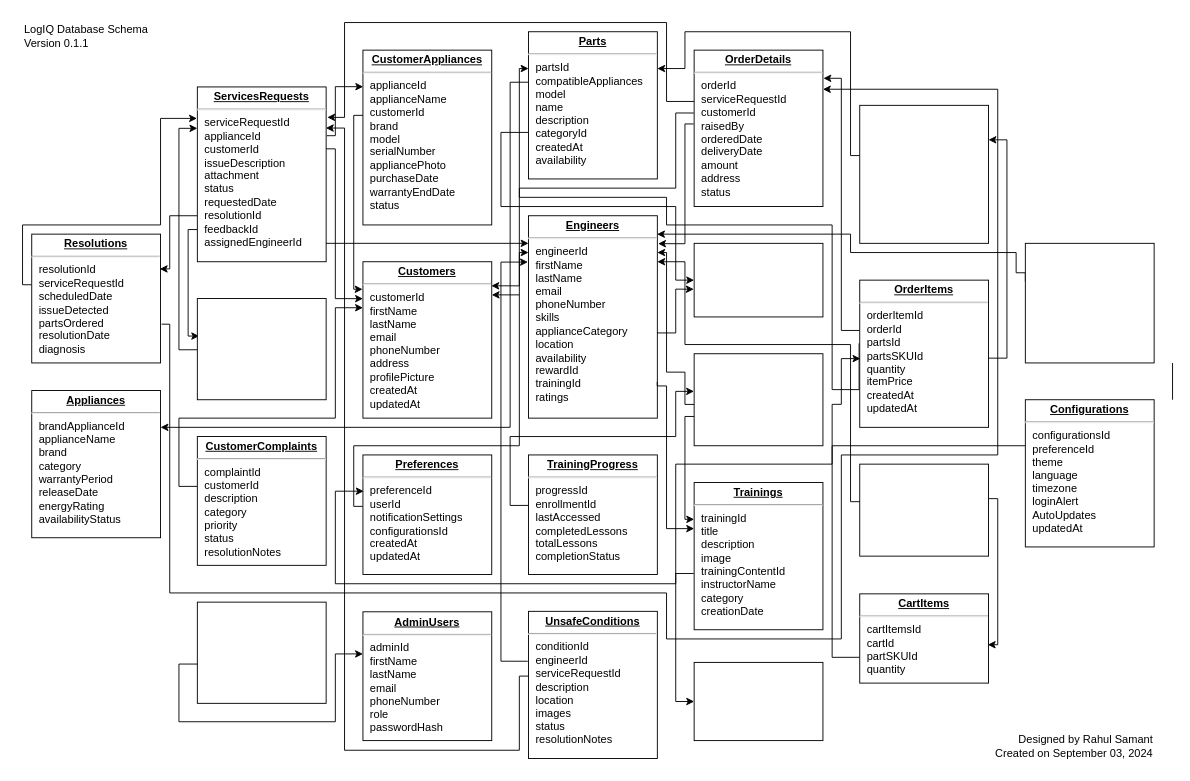
Image size: 1190x781. Some labels were removed from this diagram. The centre of each missing label's shape, as x and y in pixels:
AppSettings settingId updatedOn updatedBy Settings description: the point at 261,652
Cart cartId engineerId createdOn updatedOn: the point at 924,509
Category categoryId name createdAt: the point at 758,279
ChatbotInteractions engineerId sessionId query response queriedAt respondedAt: the point at 1089,302
CustomerFeedback feedbackId serviceRequestId rating feedback createdOn: the point at 261,349
Enrollments enrollmentId engineerId trainingId enrollmentDate: the point at 758,399
PartsSKU partsSKUId partsId size color unitPrice quantity createdAt: the point at 924,173
TrainingContent trainingContentId totalLessons content: the point at 758,701
